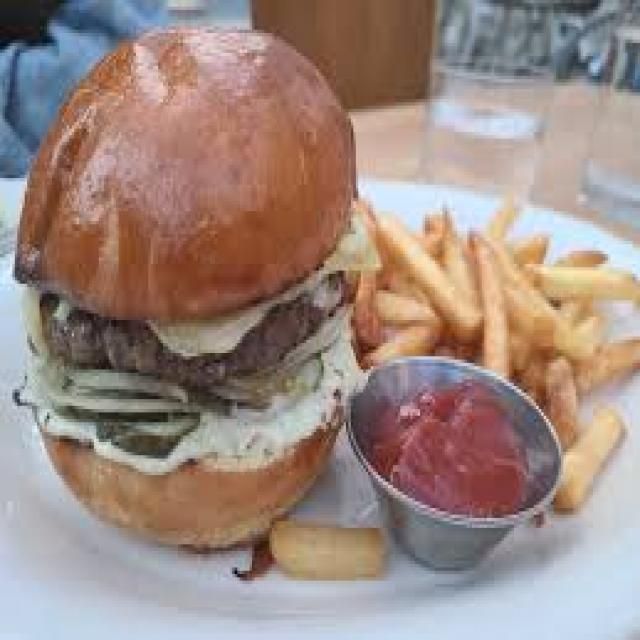Burger: (15, 20, 356, 534)
French Fries: (358, 192, 628, 492)
